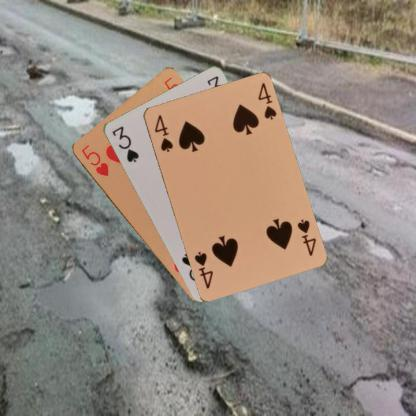3s: (109, 123, 140, 164)
4s: (151, 112, 174, 153), (294, 216, 317, 257)
5h: (78, 142, 110, 178)
